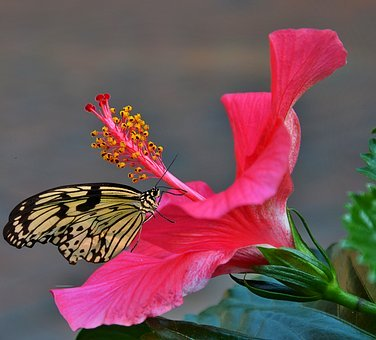Hibiscus: (50, 10, 354, 340)
